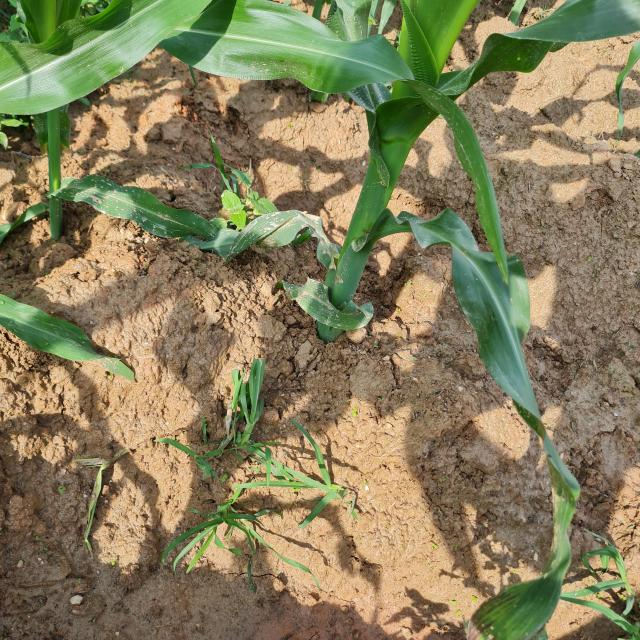maize: (0, 0, 629, 400)
weed: (167, 370, 320, 597)
